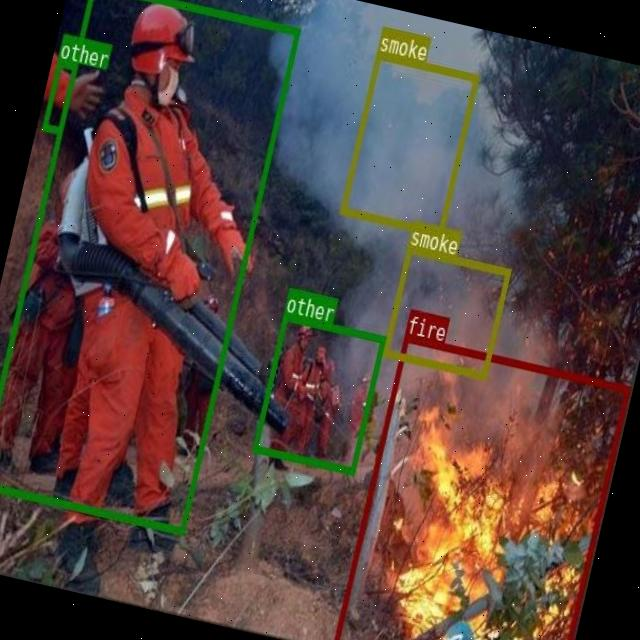fire: (332, 333, 629, 640)
smoke: (338, 51, 478, 236), (382, 245, 510, 378)
